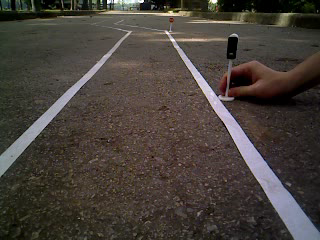Blue: (225, 33, 239, 60)
